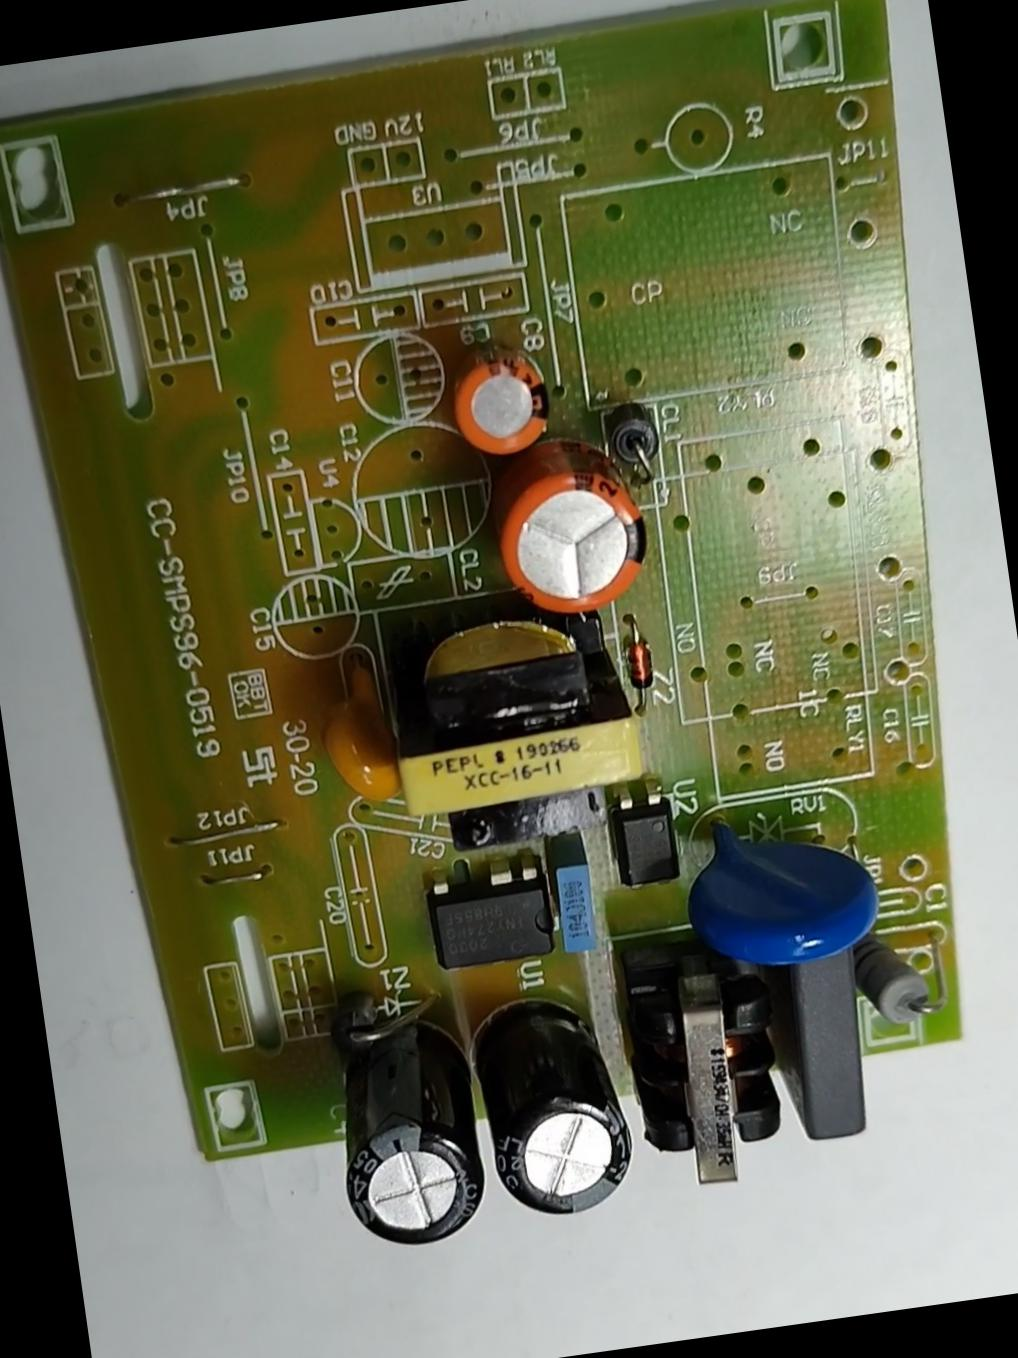Cap1: (483, 423, 659, 630)
Cap2: (443, 342, 552, 459)
Cap3: (464, 985, 643, 1228)
Cap4: (325, 1025, 492, 1259)
MOSFET: (426, 862, 557, 975)
Mov: (679, 807, 886, 972)
Resistor: (616, 937, 797, 1203), (855, 932, 937, 1036)
Transformer: (369, 602, 654, 864)
